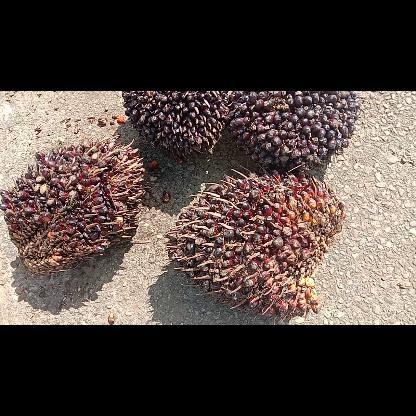TBS mentah: (164, 168, 344, 324), (0, 135, 151, 276), (229, 90, 360, 172), (122, 91, 230, 164)
